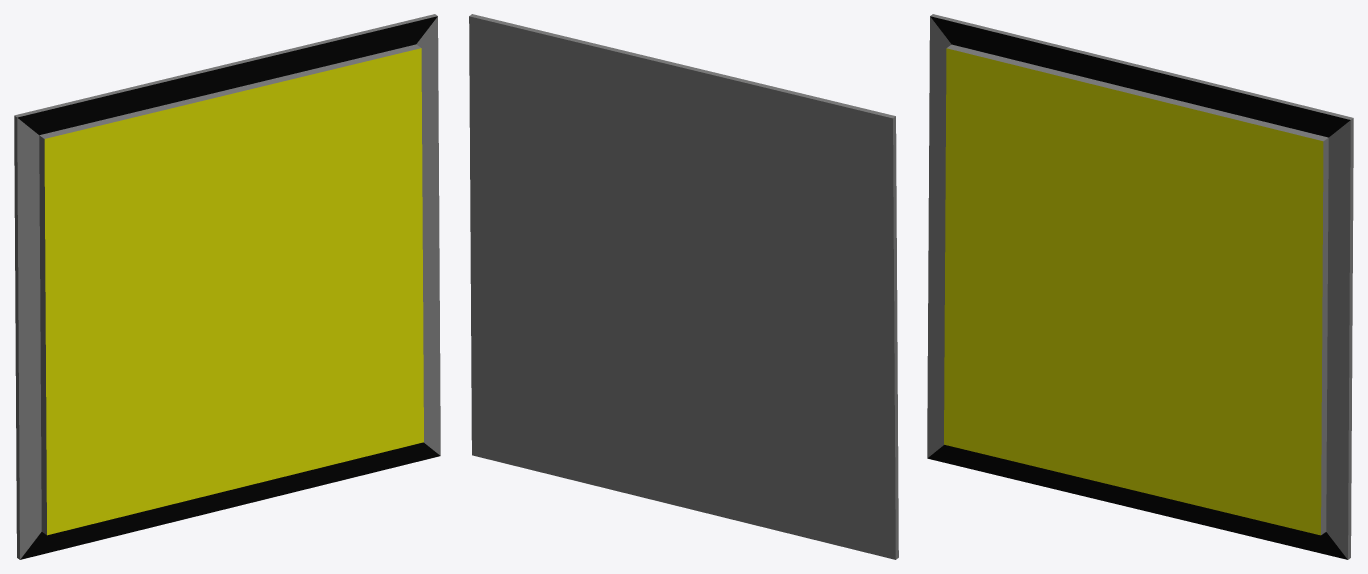
The model's file is maquinario.fbx.
3 views of the same model, side by side, from view 1: azimuth 30°, elevation 25°; view 2: azimuth 150°, elevation 25°; view 3: azimuth 330°, elevation 25° (orthographic).
Parts seen in each view (by area): view 1: Cube; view 2: Cube; view 3: Cube.
Boxes of the visible parts, x1=… form: Cube: x1=14, y1=14, x2=440, y2=559; Cube: x1=469, y1=14, x2=898, y2=559; Cube: x1=927, y1=14, x2=1353, y2=559.
Size of the model in its own units: 200 by 200 by 9.03.
